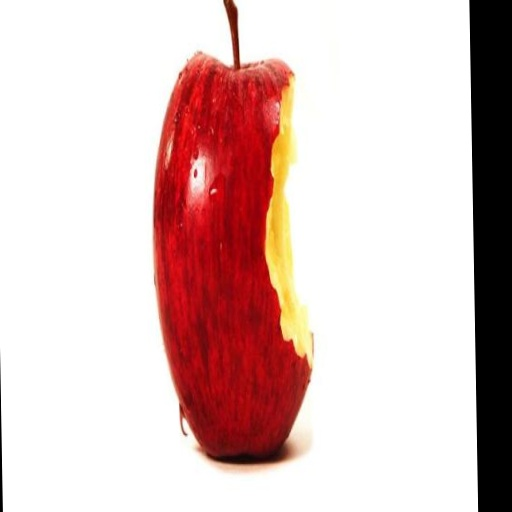fruit: (154, 0, 312, 457)
